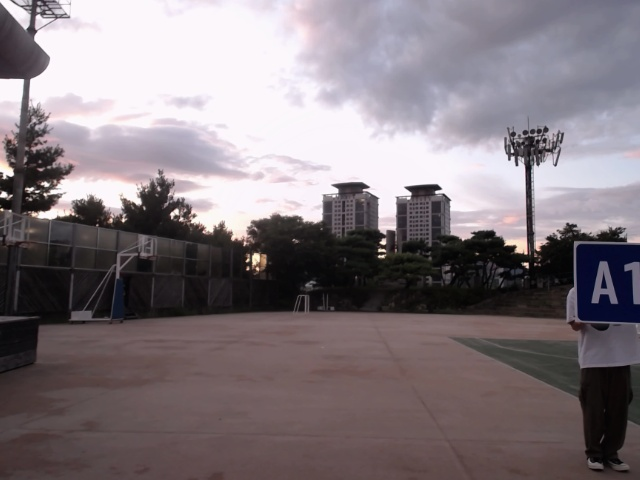delivery_a1: (575, 243, 639, 324)
